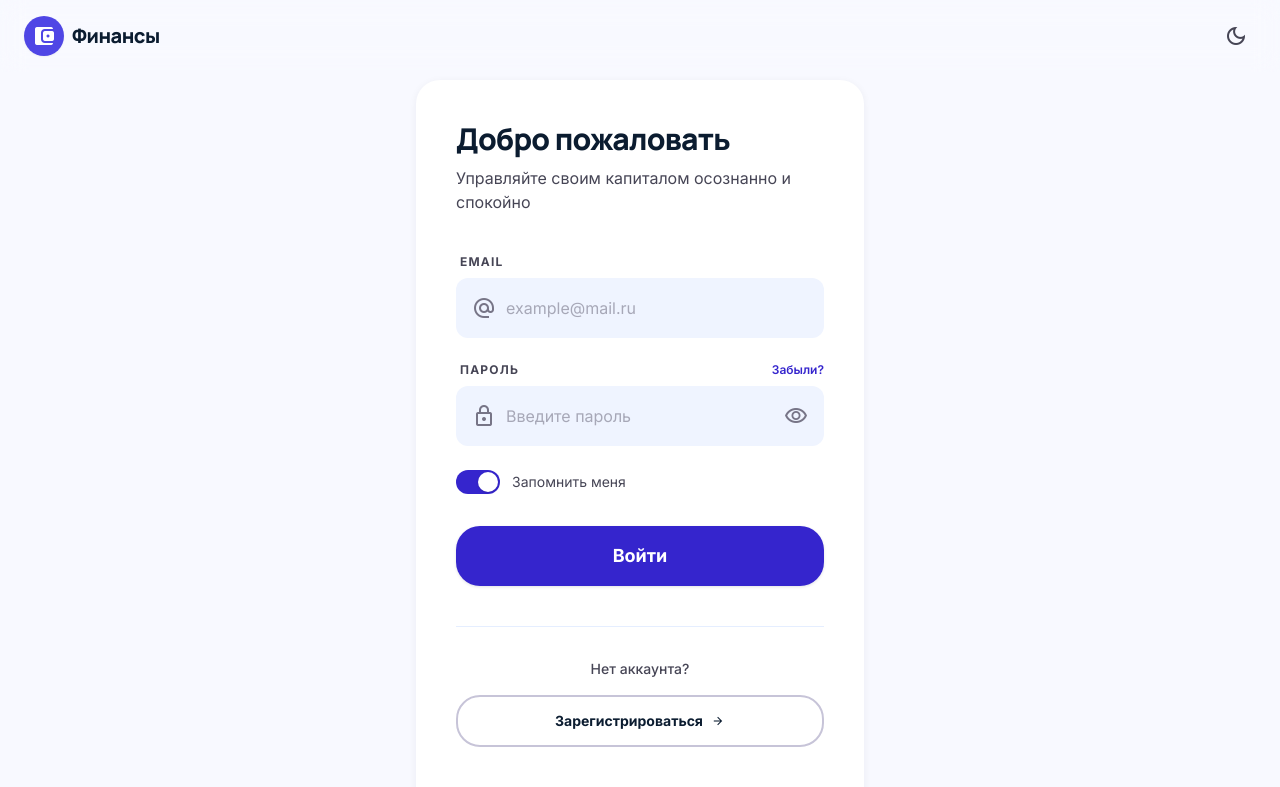
Login › shows error message on API failure
Type "bad@mail.ru" into the field with placeholder "example@mail.ru". click: (640, 308)
box: [456,278,824,338]
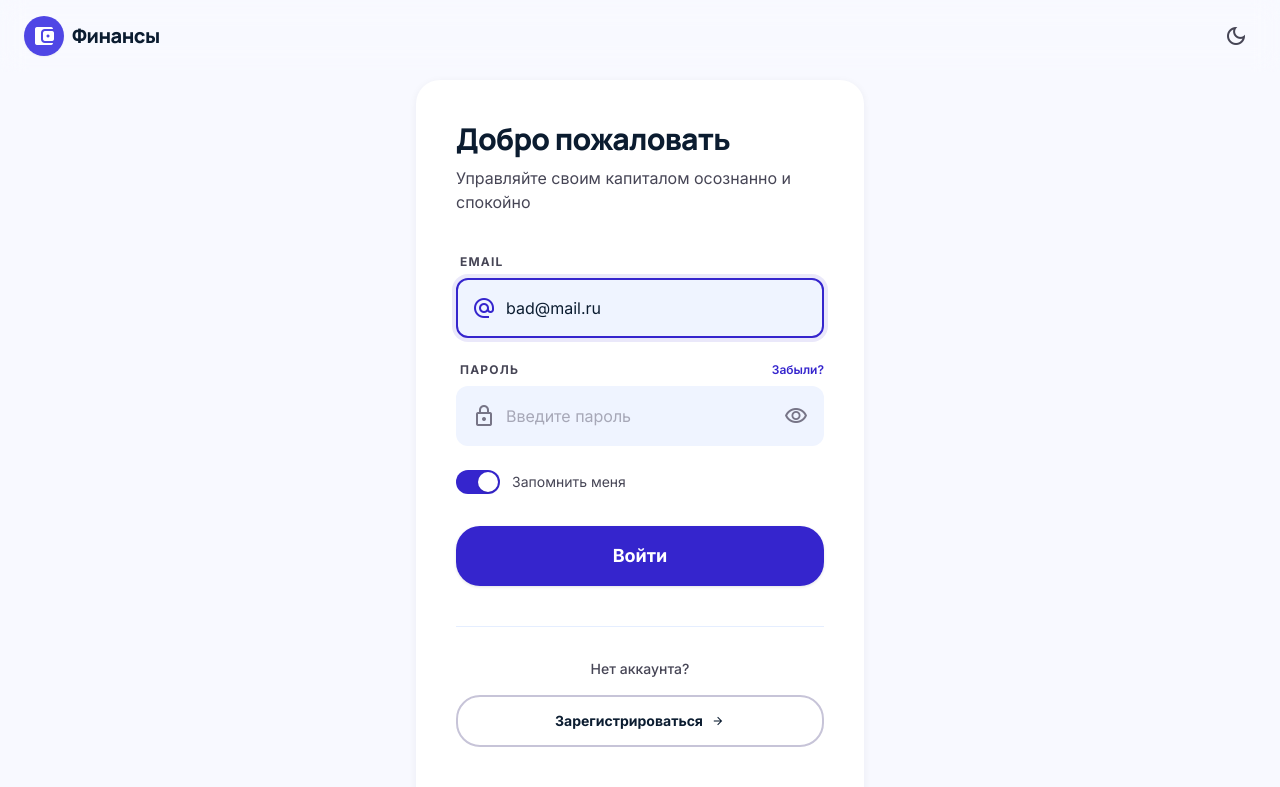
Type "wrong" into the password field with placeholder "Введите пароль". click: (640, 416)
box: [456,386,824,446]
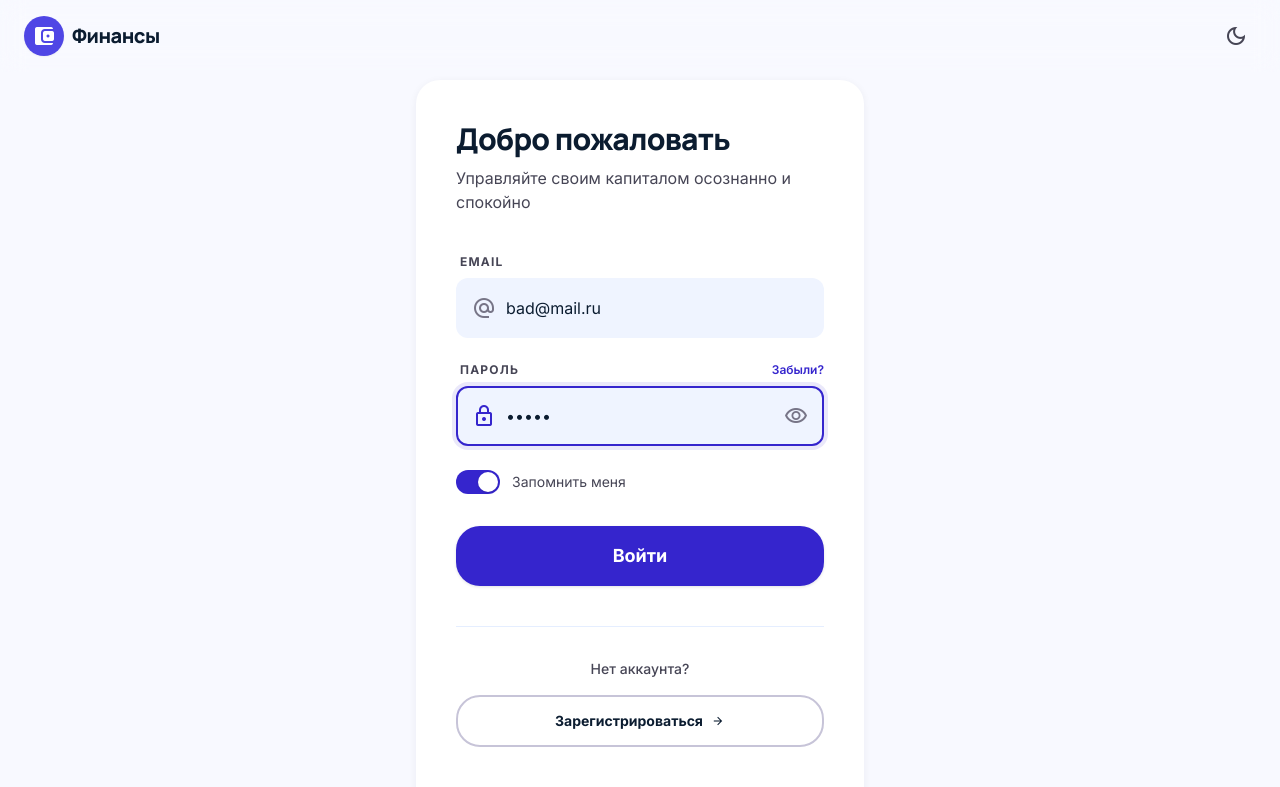
Click the button "Войти". click: (640, 556)
box: [456,526,824,586]
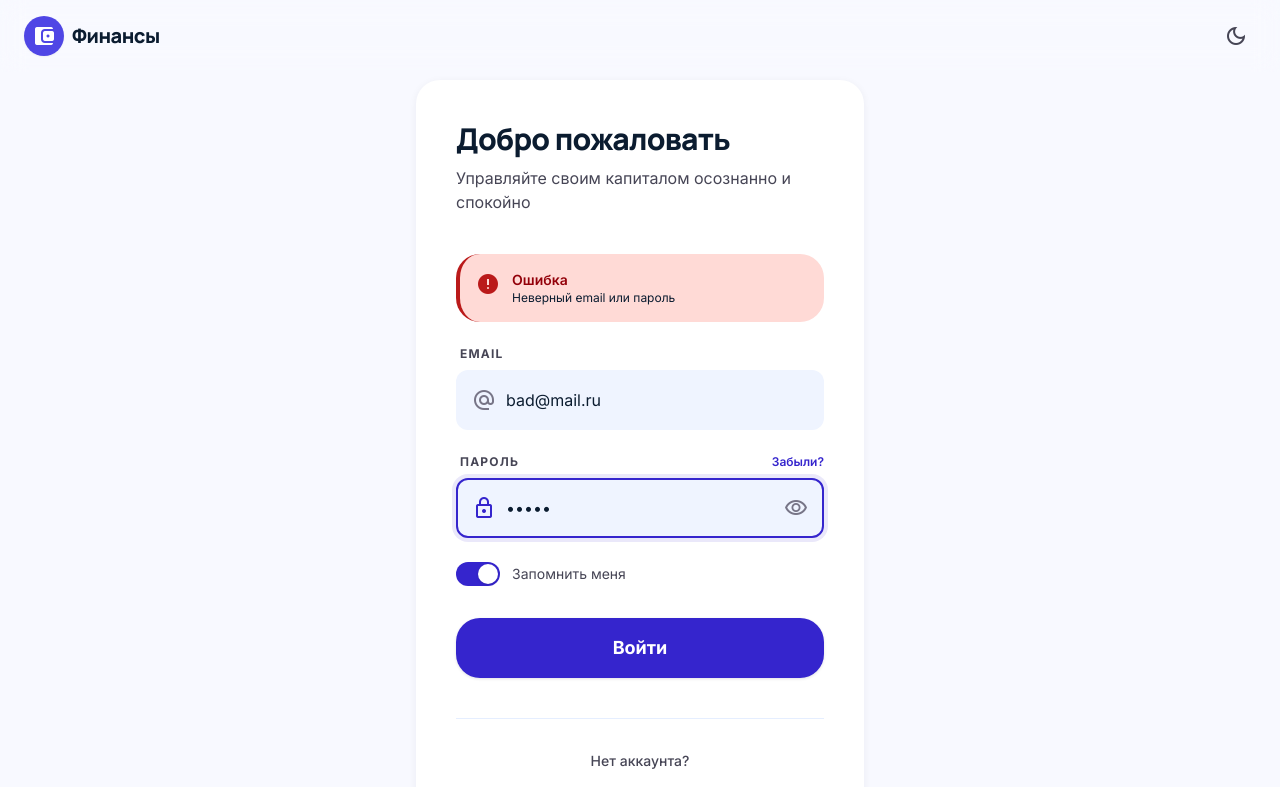
Now the text "Неверный email или пароль" is shown, box [512,290,675,306]
